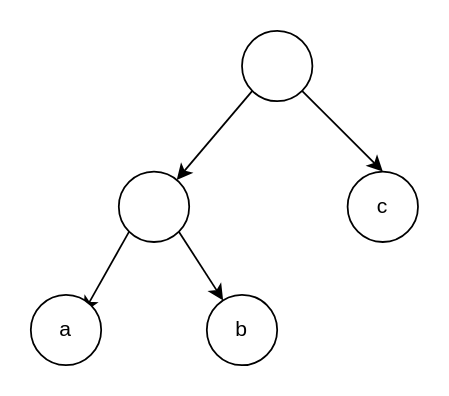
Image size: 449x396. Some labels were removed from this diagram. Each missing label, with the centre of its shape:
"AND" goes at (153,206).
"OR" goes at (276,65).
